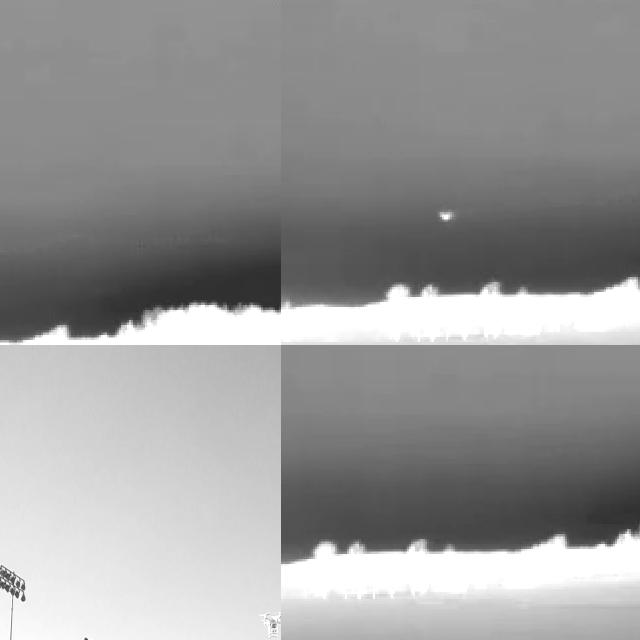0: (430, 204, 456, 230)
drone: (258, 605, 281, 636)
